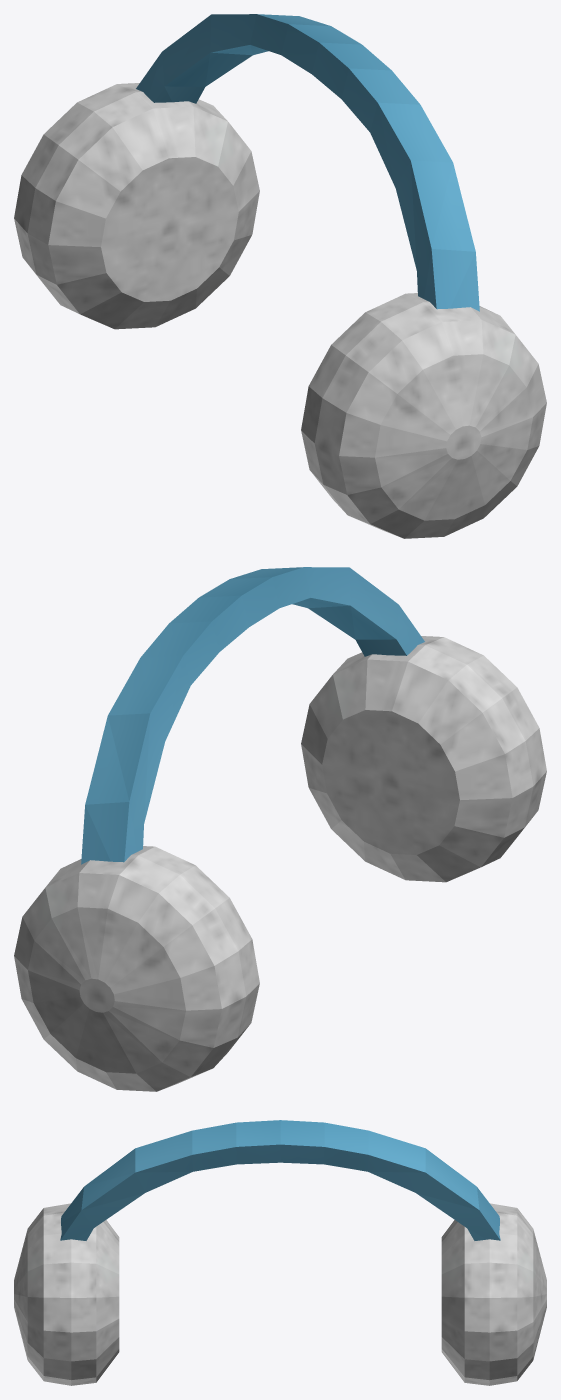
Rendered from WHITE EARMUFFS.fbx.
The picture shows the model from 3 angles, top to bottom: view 1: azimuth 30°, elevation 25°; view 2: azimuth 150°, elevation 25°; view 3: azimuth 270°, elevation 25°; orthographic projection. The views are drawn at different scales.
Parts seen in each view (by area): view 1: WHITE_EARMUFFS; view 2: WHITE_EARMUFFS; view 3: WHITE_EARMUFFS.
Part boxes in pixels (<box>): WHITE_EARMUFFS: <box>14,14,546,538</box>; WHITE_EARMUFFS: <box>14,567,546,1091</box>; WHITE_EARMUFFS: <box>14,1120,546,1385</box>.
Size of the model in its own units: 12.06 by 19.58 by 34.91.
